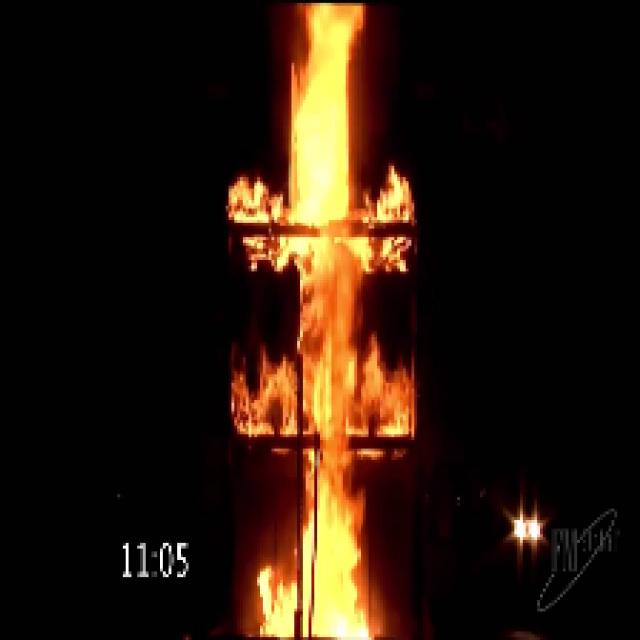smoke: (259, 6, 382, 640)
